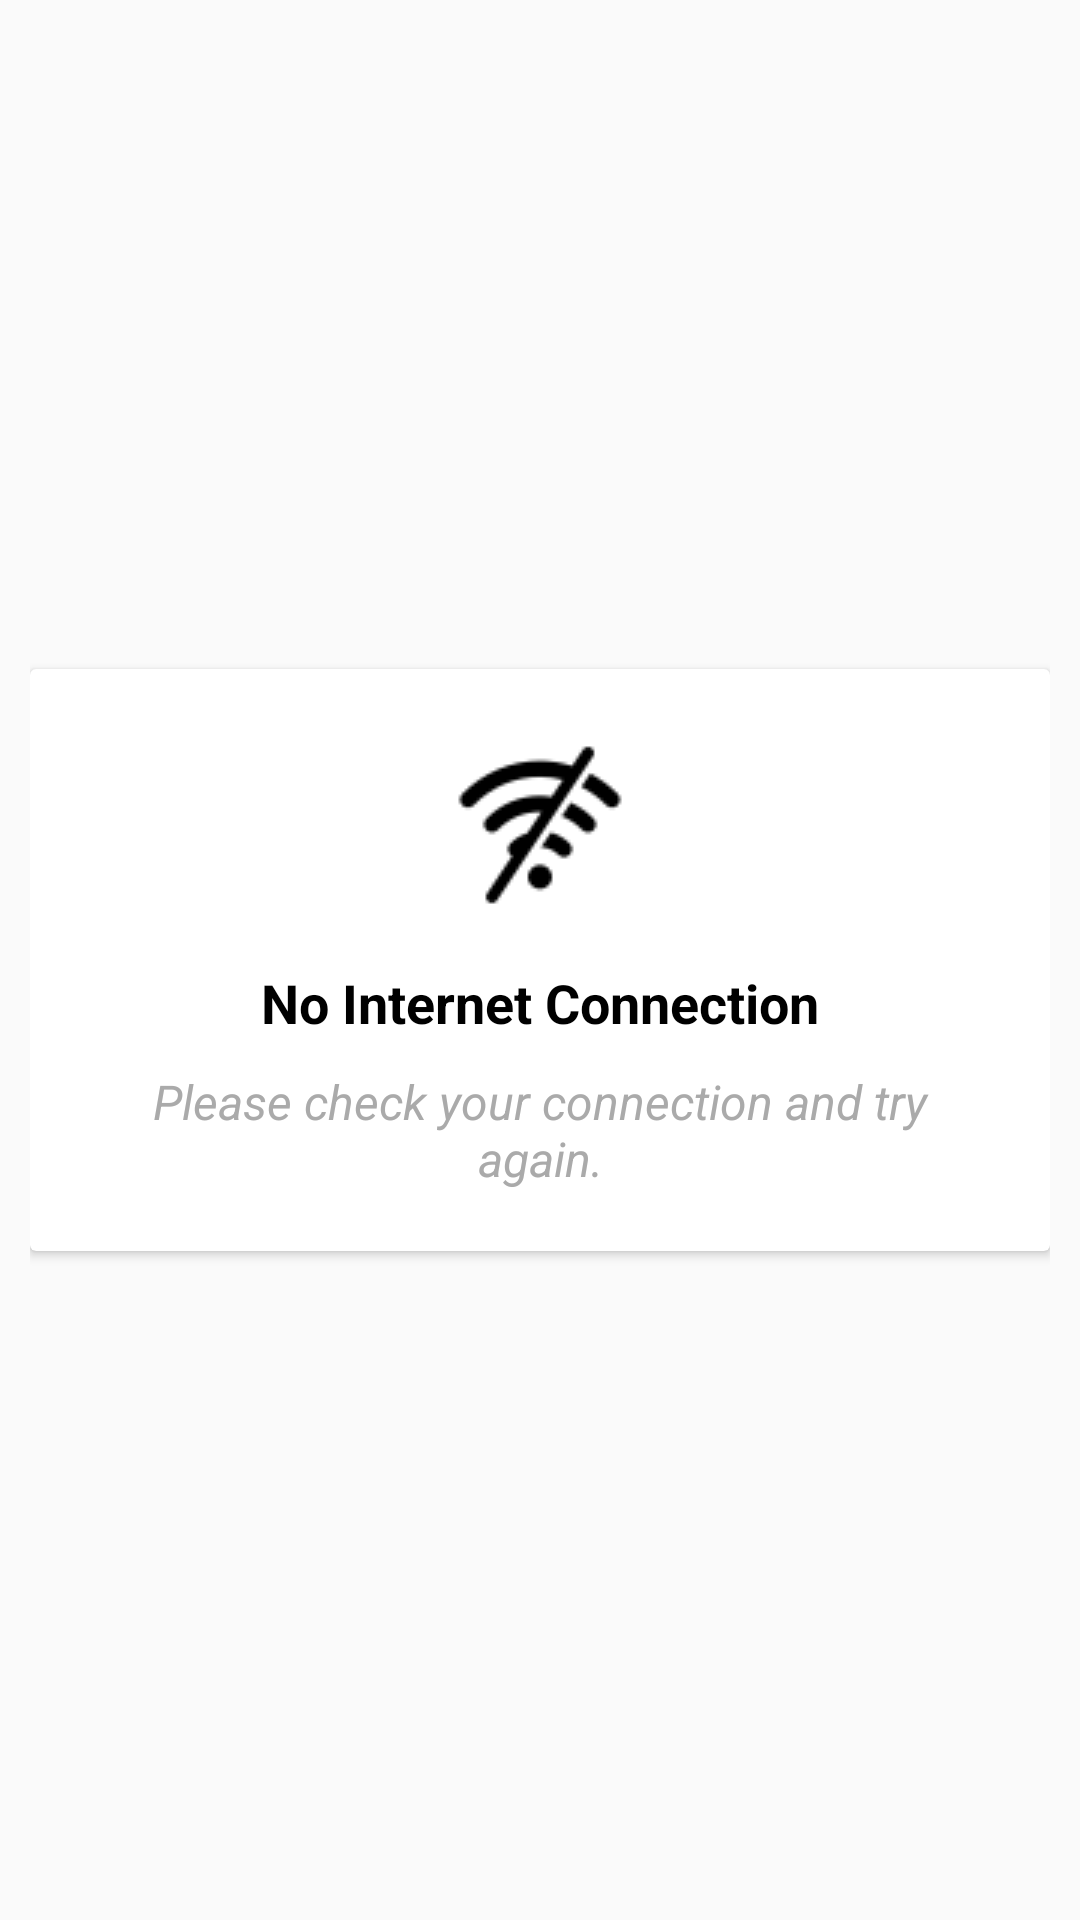

Where to tap for icons on this 1080w x 1920h app screen, as (x=x, y=y):
No internet warning: (x=540, y=825)
